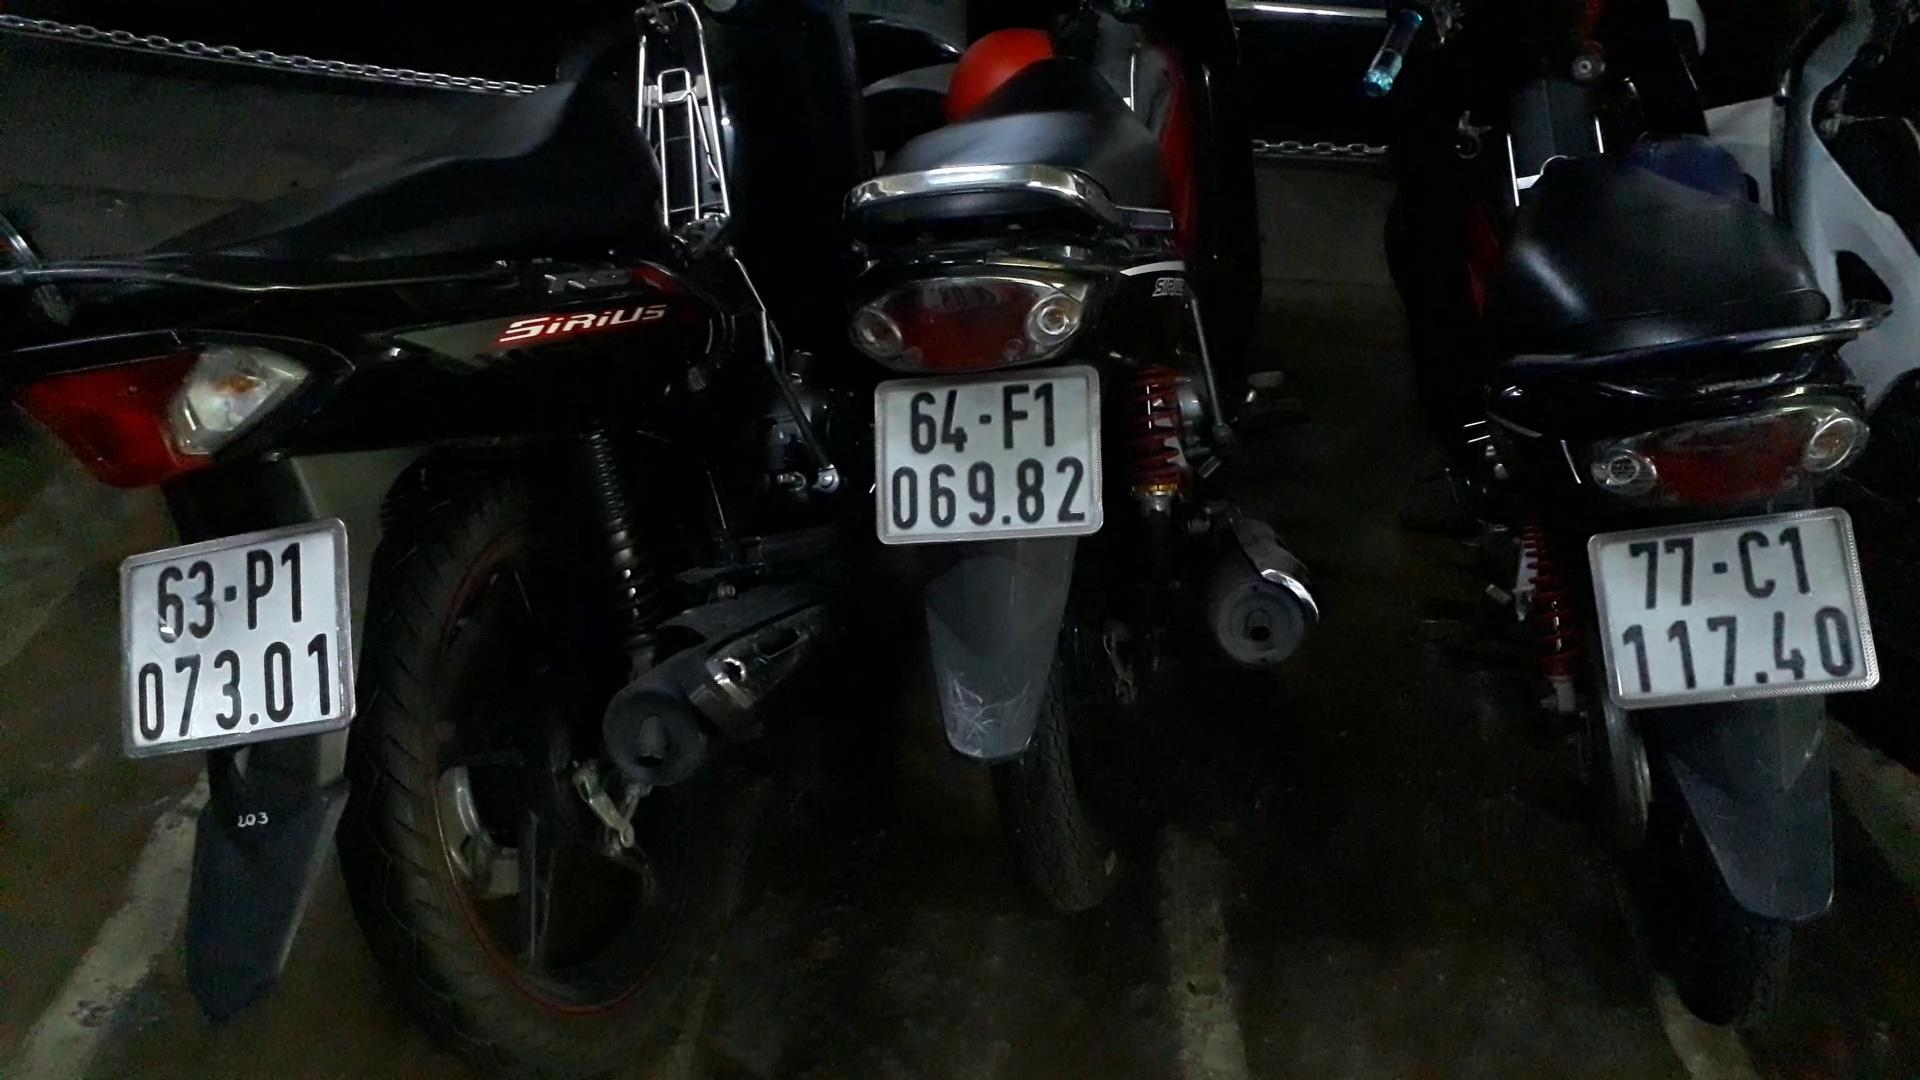numplate: (100, 493, 383, 767), (1568, 503, 1920, 703), (840, 350, 1167, 543)
